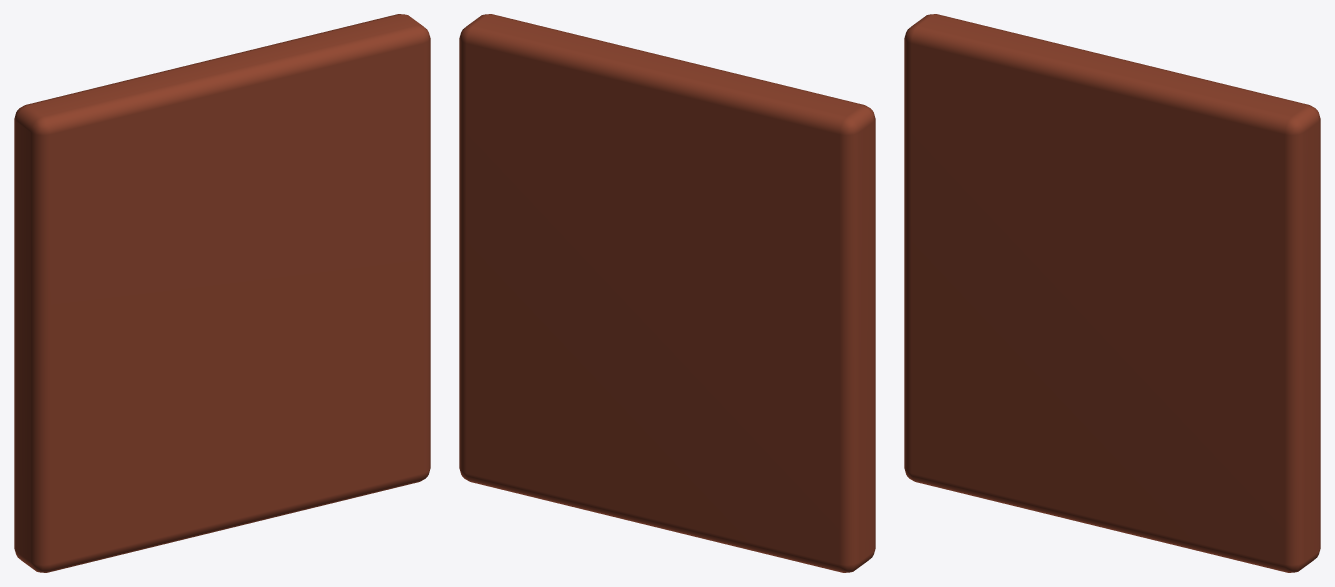
File: binding-stamp-lod0.fbx
The picture shows the model from 3 angles, left to right: view 1: azimuth 30°, elevation 25°; view 2: azimuth 150°, elevation 25°; view 3: azimuth 330°, elevation 25°; orthographic projection.
Visible parts, largest first — view 1: Worn short binding marker; view 2: Worn short binding marker; view 3: Worn short binding marker.
Part boxes in pixels (x1=…): Worn short binding marker: x1=14, y1=14, x2=430, y2=572; Worn short binding marker: x1=459, y1=14, x2=875, y2=572; Worn short binding marker: x1=904, y1=14, x2=1320, y2=572.
Size of the model in its own units: 3.2 by 3.5 by 0.4.
